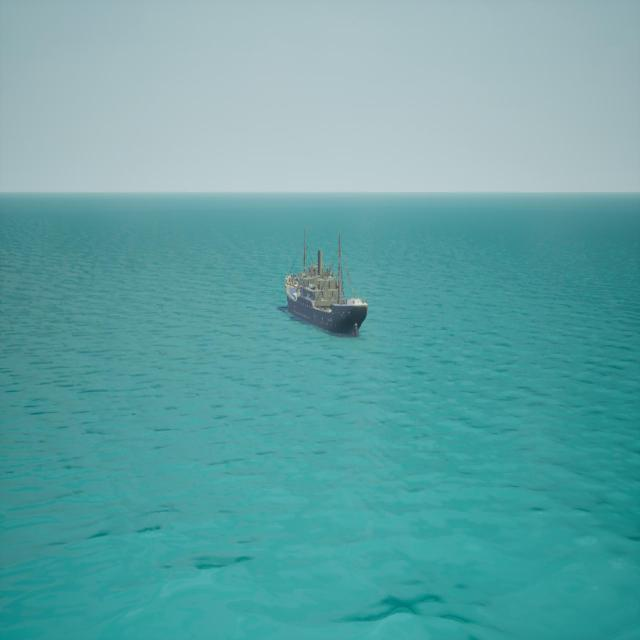fishing ship: (282, 230, 368, 339)
